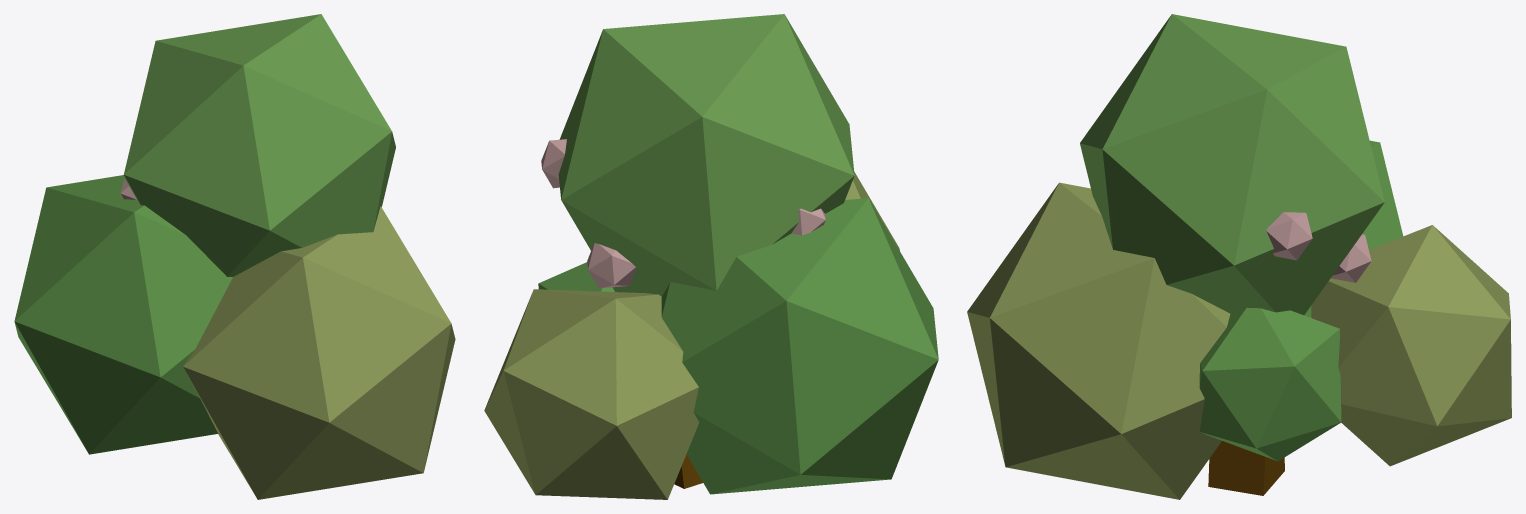
The model's file is witheredbush3.fbx.
3 renders of one model, left to right at view 1: azimuth 30°, elevation 25°; view 2: azimuth 150°, elevation 25°; view 3: azimuth 270°, elevation 25°, orthographic. The views are drawn at different scales.
Parts seen in each view (by area): view 1: Cube.003; view 2: Cube.003; view 3: Cube.003.
Part boxes in pixels (x1,y1,x2,y2): Cube.003: (14,14,455,499); Cube.003: (484,14,938,499); Cube.003: (967,14,1511,499).
Bounding box in the file's own units: 192 × 202 × 227.
